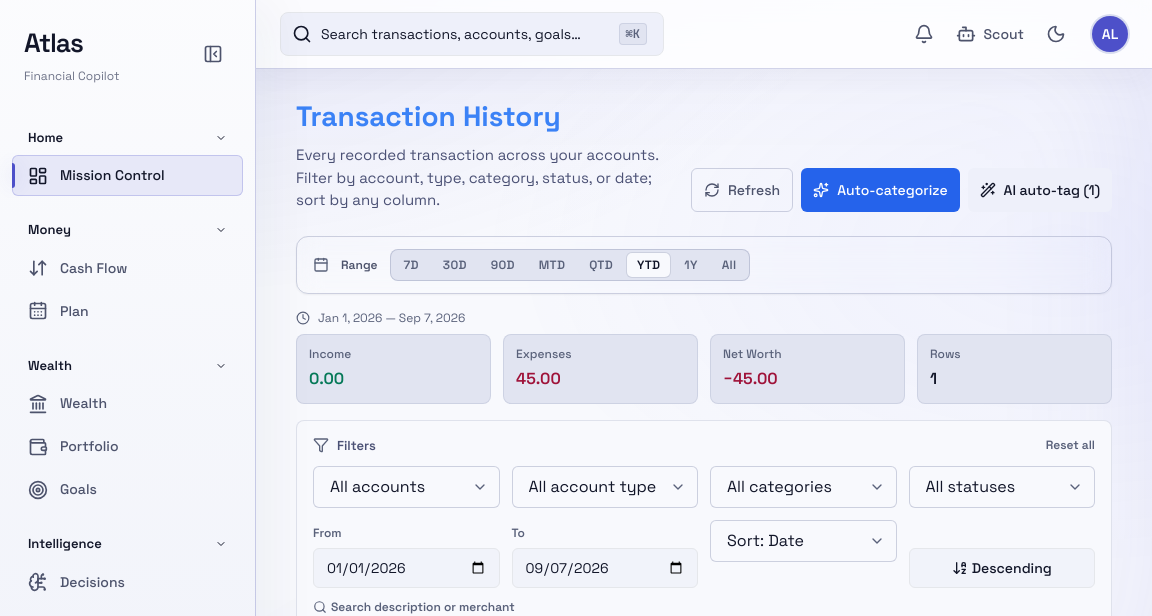
Activity Page — LLM new-category proposals › renders the propose-new chip and accepts via acceptCategoryProposal
Click the button with test id "activity-ai-categorize-button": [1040, 190] box [968,168,1112,212]
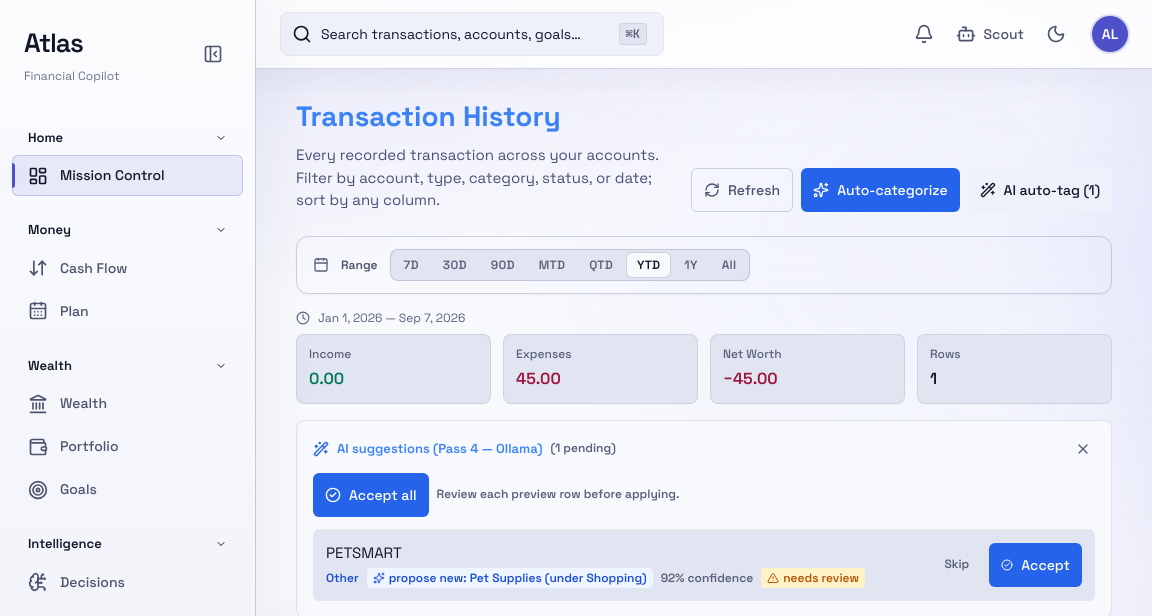
Check: the element with test id "activity-llm-proposal-1" shows "Pet Supplies", box [470,570,542,586]
Check: the element with test id "activity-llm-proposal-1" shows "Shopping", box [542,570,647,586]
Click the button with test id "activity-llm-accept-1": [1036, 565] box [989,543,1082,587]
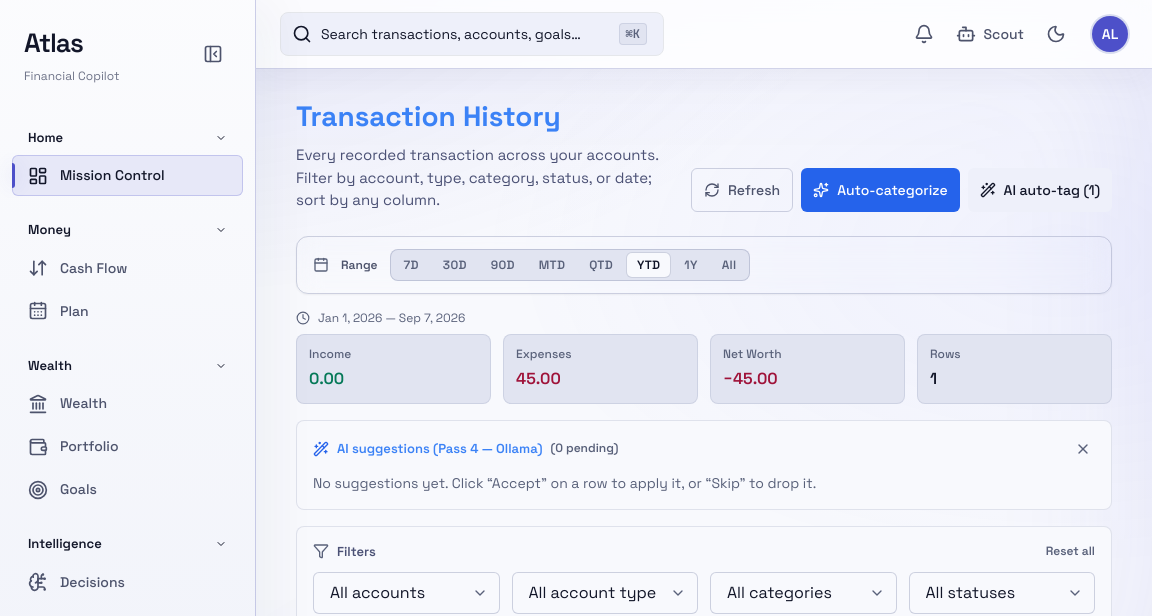
Check: the element with test id "activity-llm-proposal-1" is gone
